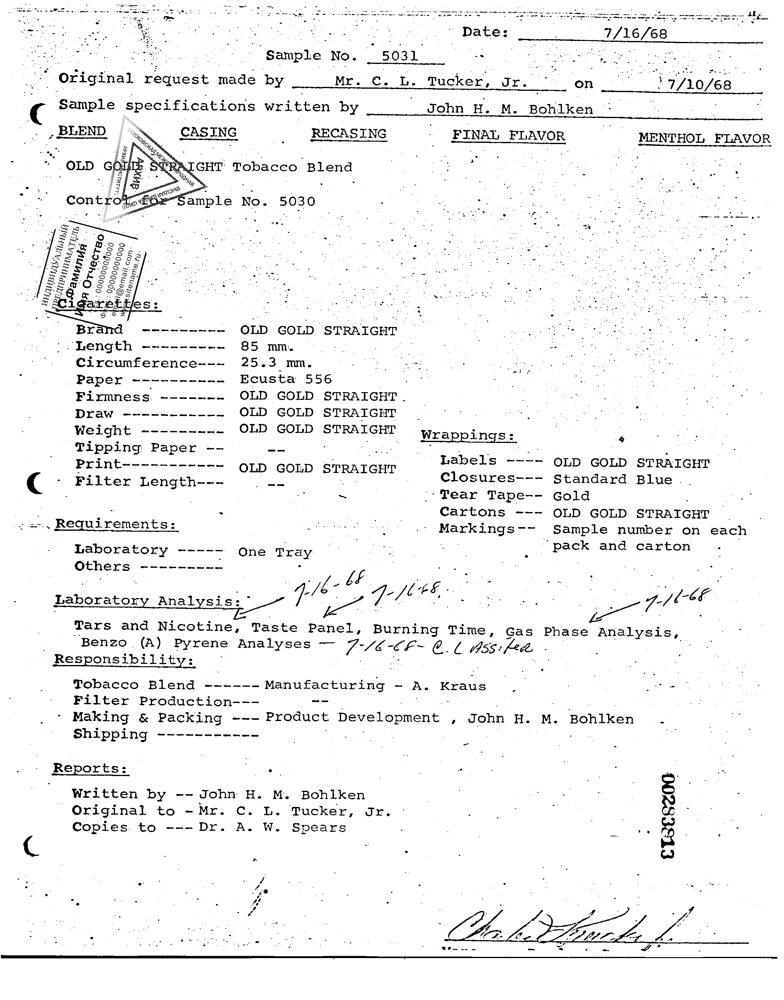rectangle: (33, 217, 150, 333)
triangle: (102, 114, 219, 242)
